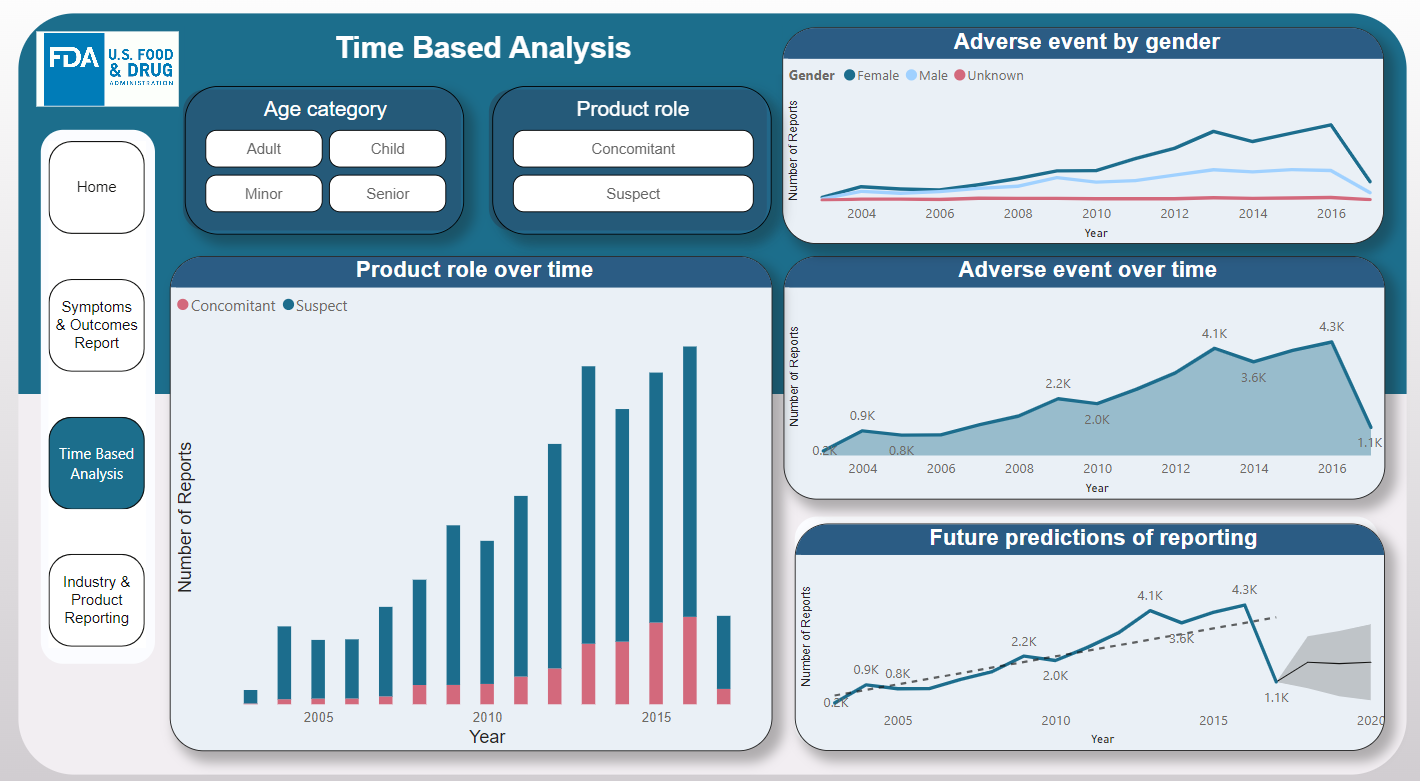

The page's visual inventory and layout, read from the dashboard file:
{"tool":"powerbi","page":{"name":"Time Based Analysis","canvas":[1280,720],"ordinal":2},"visuals":[{"type":"shape","box":[703,68,537,150],"z":0},{"type":"areaChart","title":"Adverse event over time","fields":{"Category":["CAERS_ASCII_2004_2017Q2.Event_Date.Variation.Date Hierarchy.Year","CAERS_ASCII_2004_2017Q2.Event_Date.Variation.Date Hierarchy.Quarter","CAERS_ASCII_2004_2017Q2.Event_Date.Variation.Date Hierarchy.Month","CAERS_ASCII_2004_2017Q2.Event_Date.Variation.Date Hierarchy.Day"],"Y":["CountNonNull(CAERS_ASCII_2004_2017Q2.Event_Date)"]},"box":[703.5,237.2,537.2,217.4],"z":1000},{"type":"lineChart","title":"Future predictions of reporting","fields":{"Category":["CAERS_ASCII_2004_2017Q2.Event_Date.Variation.Date Hierarchy.Year"],"Y":["CountNonNull(CAERS_ASCII_2004_2017Q2.Event_ID)"]},"box":[713.5,475.7,527,203.2],"z":2000},{"type":"ribbonChart","title":"Product role over time","fields":{"Category":["CAERS_ASCII_2004_2017Q2.Event_Date.Variation.Date Hierarchy.Year","CAERS_ASCII_2004_2017Q2.Event_Date.Variation.Date Hierarchy.Quarter","CAERS_ASCII_2004_2017Q2.Event_Date.Variation.Date Hierarchy.Month","CAERS_ASCII_2004_2017Q2.Event_Date.Variation.Date Hierarchy.Day"],"Series":["CAERS_ASCII_2004_2017Q2.Product_Role"],"Y":["CountNonNull(CAERS_ASCII_2004_2017Q2.Event_Date)"]},"box":[155.2,236.7,538.2,442.2],"z":3000},{"type":"lineChart","title":"Adverse event by gender","fields":{"Category":["CAERS_ASCII_2004_2017Q2.Event_Date.Variation.Date Hierarchy.Year"],"Series":["CAERS_ASCII_2004_2017Q2.Gender"],"Y":["CountNonNull(CAERS_ASCII_2004_2017Q2.Gender)"]},"box":[702.5,32.5,537.5,193.8],"z":4000},{"type":"ChicletSlicer1448559807354","title":"Age category","fields":{"Category":["Main_table.Age_category"]},"box":[168.8,85.1,249.7,133.1],"z":5000},{"type":"image","box":[31.6,31.6,137.2,76.8],"z":6000},{"type":"textbox","box":[168.9,31.4,533.2,43.4],"z":7000},{"type":"ChicletSlicer1448559807354","title":"Product role","fields":{"Category":["Main_table.Product_Role"]},"box":[443.2,85.1,249.7,133.1],"z":8000},{"type":"pageNavigator","box":[47.1,133.9,86.9,452.4],"z":9000}]}

Visuals, with their boxes in screenshot pixels (x1, y1, x2, y2), scaled from the page's 1280x720 canvas onto the 1420x781 screenshot:
shape: [left=780, top=74, right=1376, bottom=236]
"Adverse event over time" areaChart: [left=780, top=257, right=1376, bottom=493]
"Future predictions of reporting" lineChart: [left=792, top=516, right=1376, bottom=736]
"Product role over time" ribbonChart: [left=172, top=257, right=769, bottom=736]
"Adverse event by gender" lineChart: [left=779, top=35, right=1376, bottom=245]
"Age category" ChicletSlicer1448559807354: [left=187, top=92, right=464, bottom=237]
image: [left=35, top=34, right=187, bottom=118]
textbox: [left=187, top=34, right=779, bottom=81]
"Product role" ChicletSlicer1448559807354: [left=492, top=92, right=769, bottom=237]
pageNavigator: [left=52, top=145, right=149, bottom=636]
